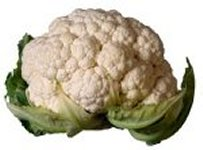cauliflower: (4, 7, 196, 146)
